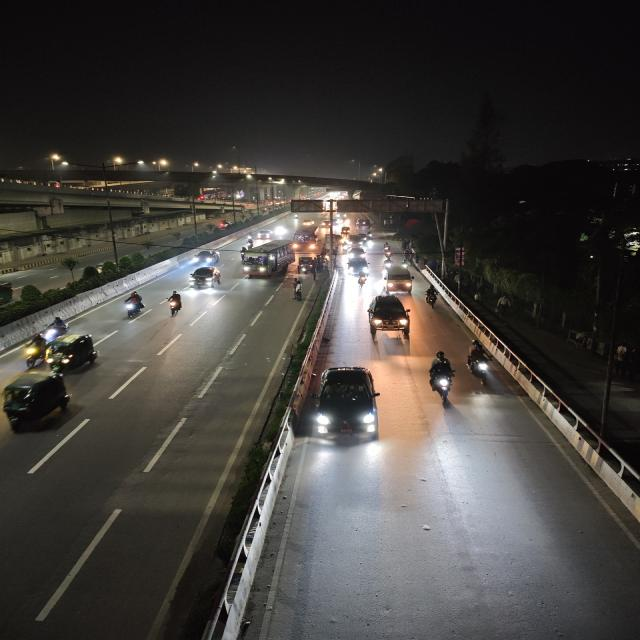bicycle: (290, 278, 304, 302)
bus: (237, 240, 292, 280), (291, 226, 322, 254)
car: (309, 363, 384, 449), (364, 291, 413, 341), (185, 265, 223, 291), (381, 266, 416, 294), (344, 257, 372, 283), (190, 248, 223, 268), (347, 245, 370, 261), (346, 233, 371, 247), (253, 228, 276, 240)
cng: (0, 368, 77, 433), (43, 330, 103, 376), (0, 280, 15, 313), (297, 254, 318, 276)
motorcycle: (426, 349, 457, 407), (465, 338, 494, 388), (118, 290, 147, 324), (38, 314, 70, 343), (162, 289, 186, 319), (423, 284, 442, 310), (353, 269, 370, 288), (242, 234, 256, 250), (380, 255, 394, 271), (381, 242, 394, 256), (216, 220, 229, 230)
pedestrian: (290, 280, 306, 302)
